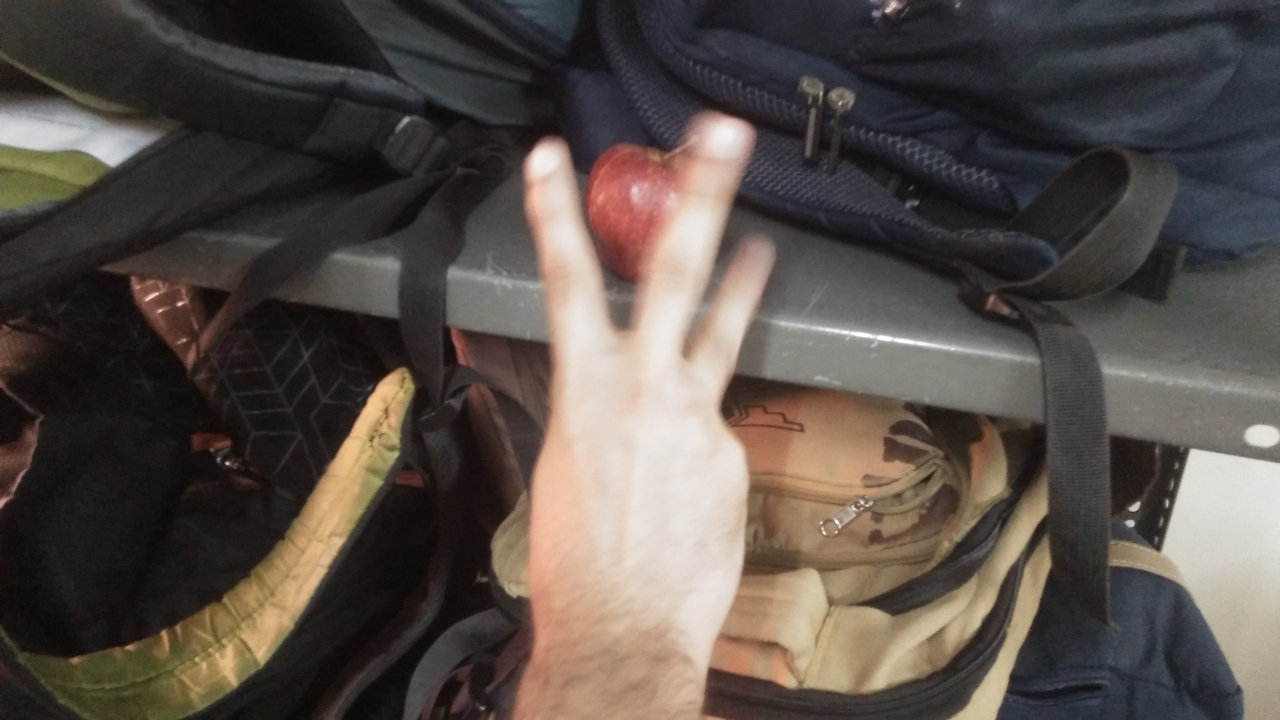fingertip: (682, 104, 764, 172), (508, 128, 582, 196), (728, 230, 781, 280)
